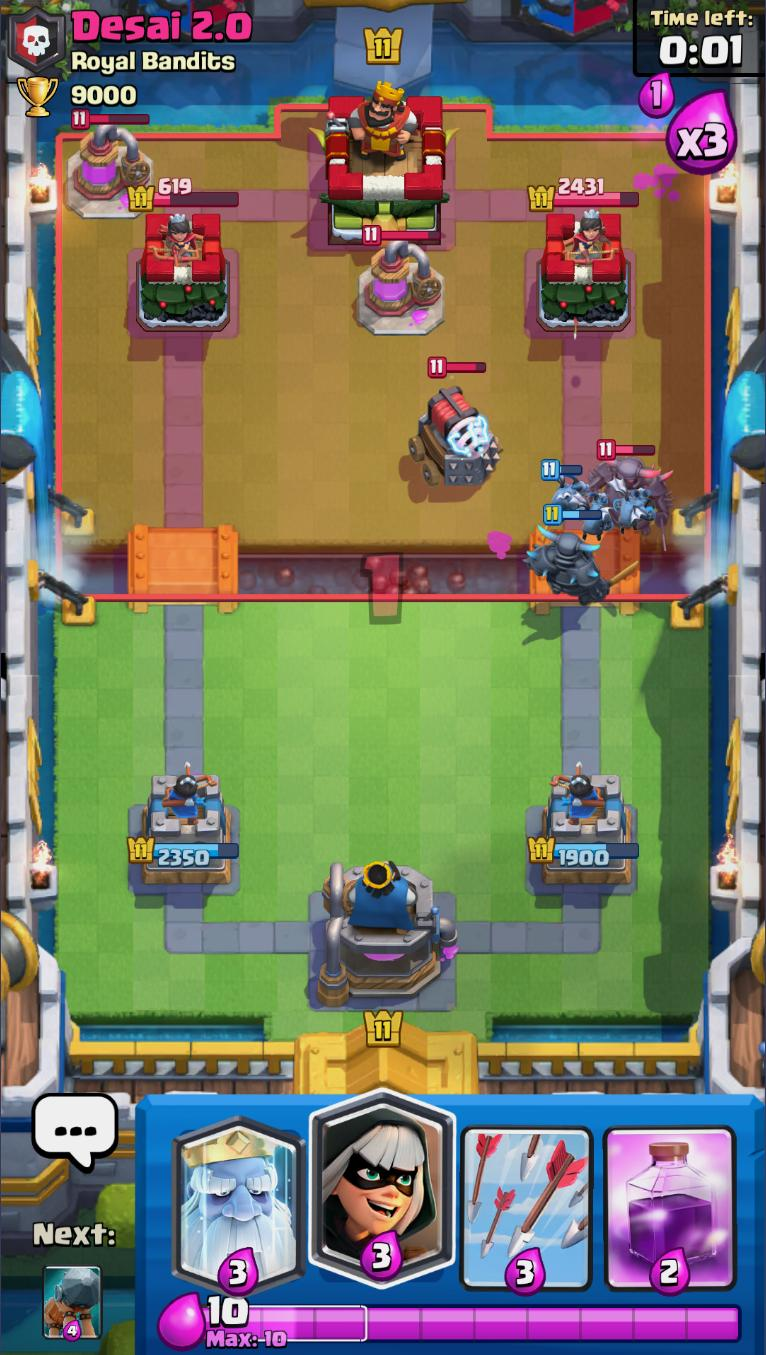ArrowDeck: (456, 1094, 598, 1295)
BanditDeck: (311, 1095, 455, 1296)
BattleRamNext: (40, 1264, 105, 1344)
Elixir: (203, 1295, 744, 1350)
ElixirCollector: (63, 108, 156, 221), (355, 225, 447, 337)
EnemyTower: (533, 208, 631, 331), (133, 210, 229, 335)
KingTower: (308, 82, 456, 248)
MyKingTower: (319, 856, 458, 1009)
MyMinion: (540, 460, 590, 517), (608, 482, 658, 539), (574, 491, 617, 543)
MyPekka: (526, 504, 641, 604)
MyPrincessTower: (524, 771, 639, 887), (125, 769, 238, 887)
MyPrincessTowerHP: (125, 836, 238, 868), (525, 835, 637, 867)
Pekka: (585, 439, 670, 543)
PrincessTower: (546, 213, 603, 264), (144, 214, 200, 264)
RageDeck: (599, 1094, 744, 1296)
RoyaleGhostDeck: (167, 1095, 310, 1296)
Sparky: (407, 355, 506, 491)
TowerPrincessHP: (126, 178, 239, 213), (526, 178, 639, 212)
